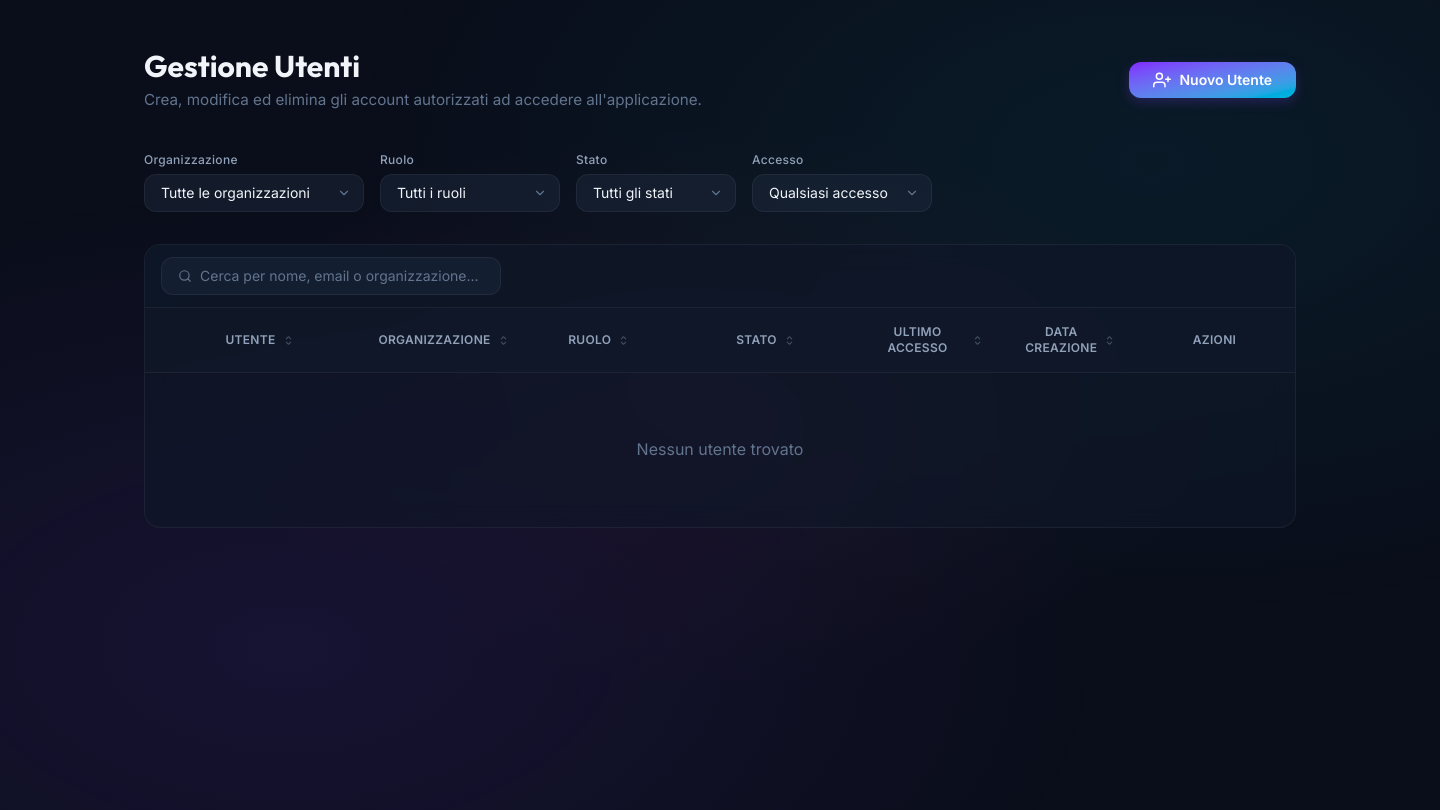
Test case: elenco › distingue una tabella vuota da una ricerca senza esiti
Expected: the text "Nessun utente trovato" is shown, [145,373,1295,527]
Click the dropdown named "Stato" at (656, 193), box [576,174,736,212]
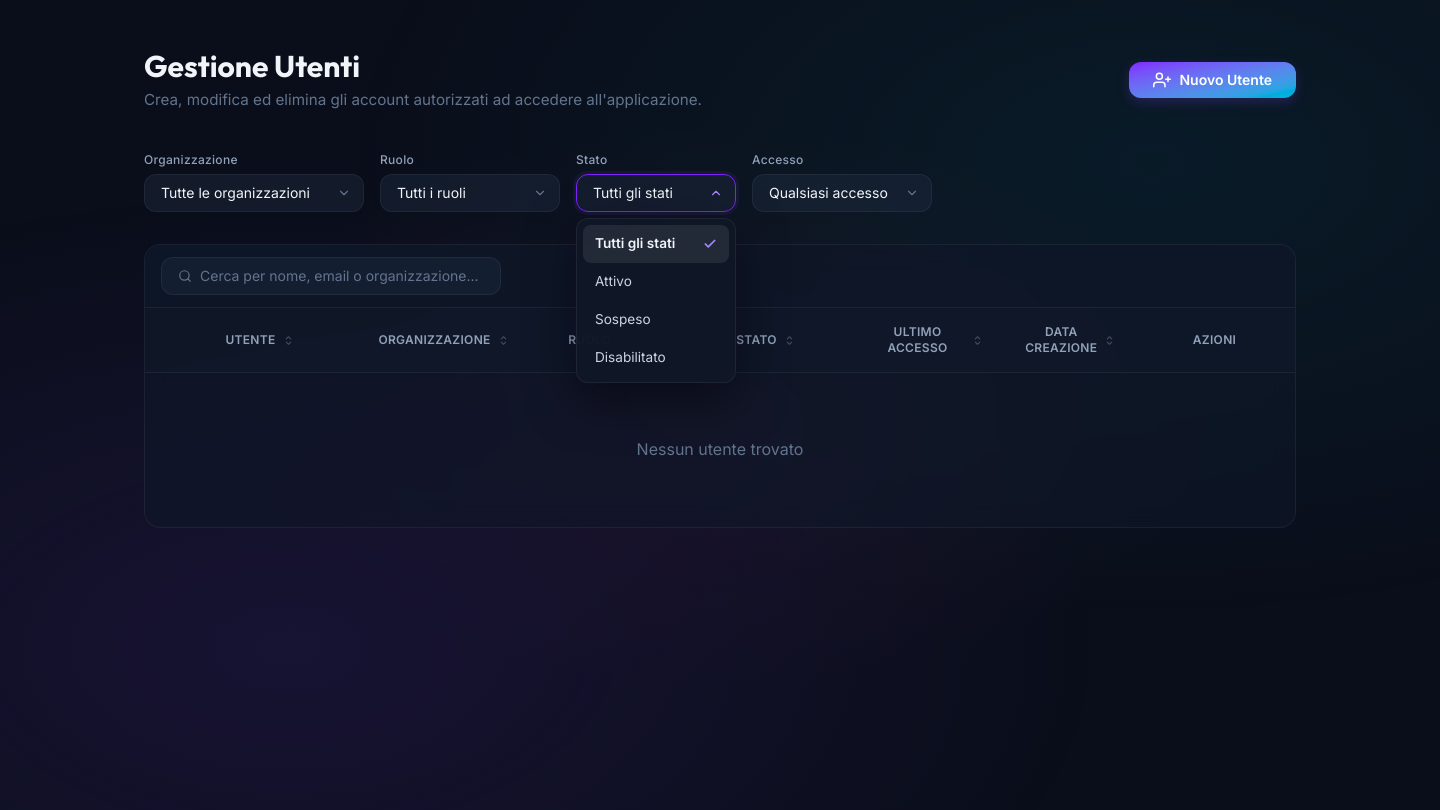
Click the option "Sospeso" at (623, 319), box [595,311,651,327]
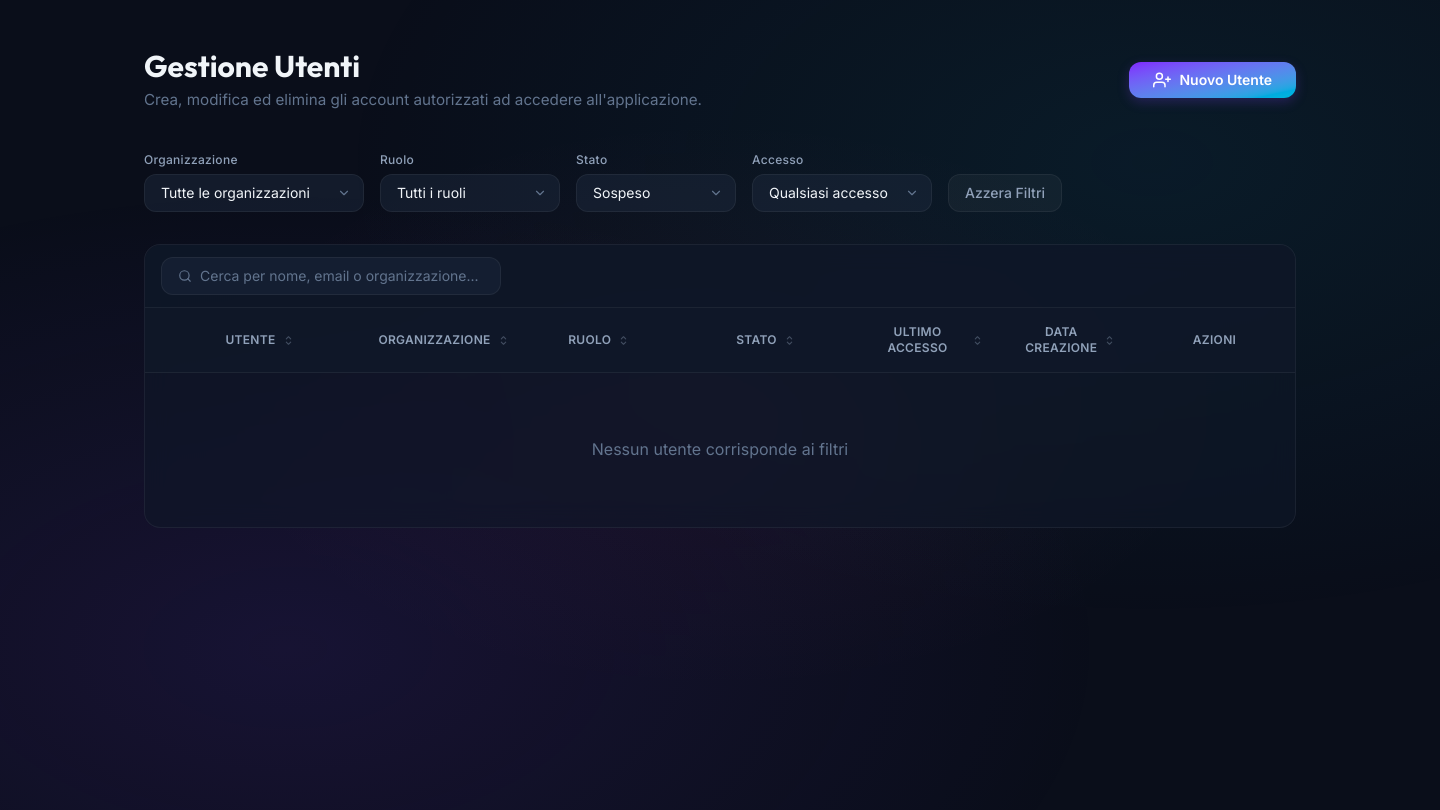
Now the text "Nessun utente corrisponde ai filtri" is shown, box [145,373,1295,527]
